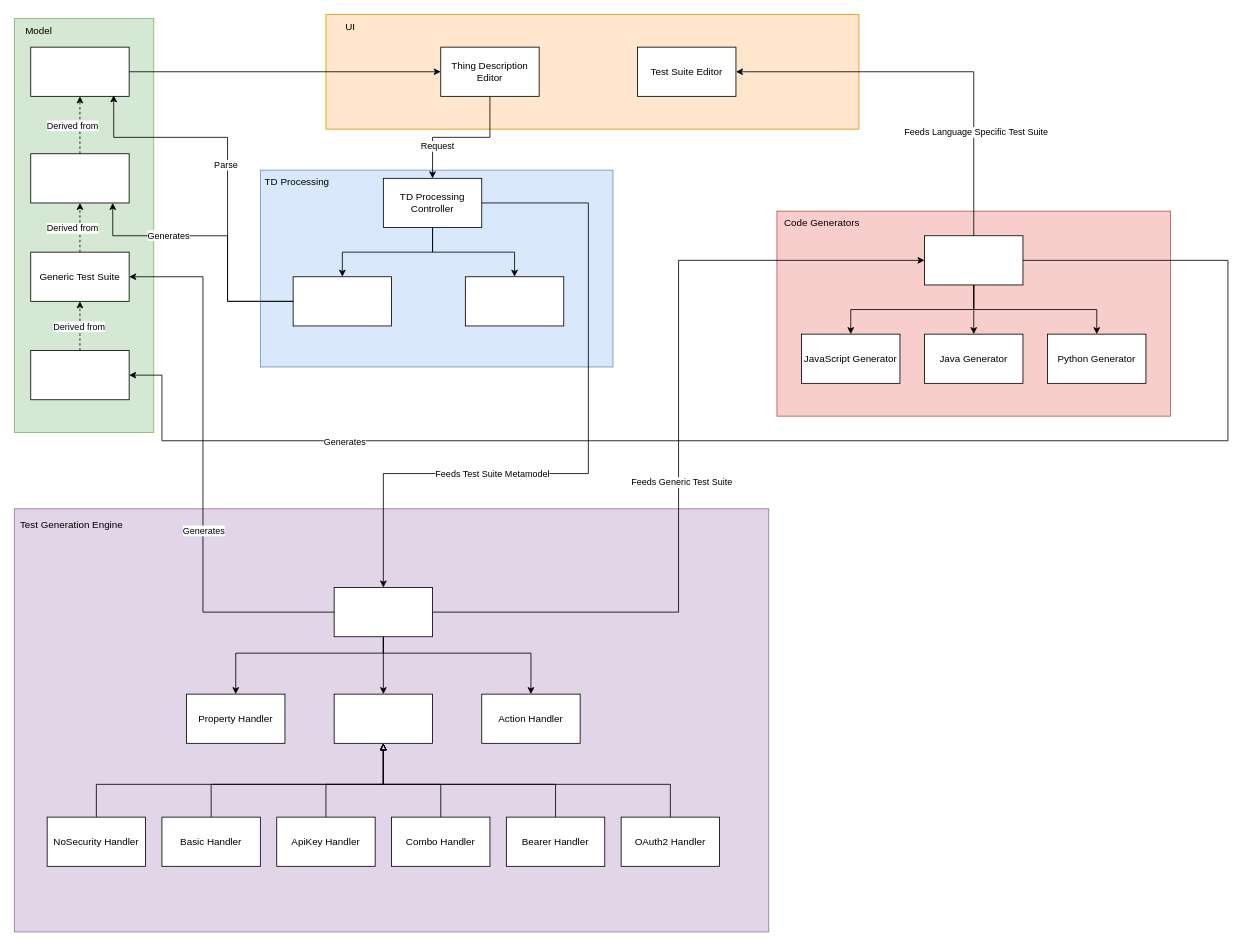
This 1249x946 diagram has some shape labels left out. The shapes that lost their labels are listed below. From the top down, each one's centre as x and y in pixels, then its label:
[79,71]: Thing Description
[79,178]: Test Suite Metamodel
[973,260]: Code Generator Controller
[342,301]: TD Parser
[514,301]: TD Schema Validator
[79,375]: Language Specific Test Suite
[383,612]: Test Generator
[383,718]: Security Handler
